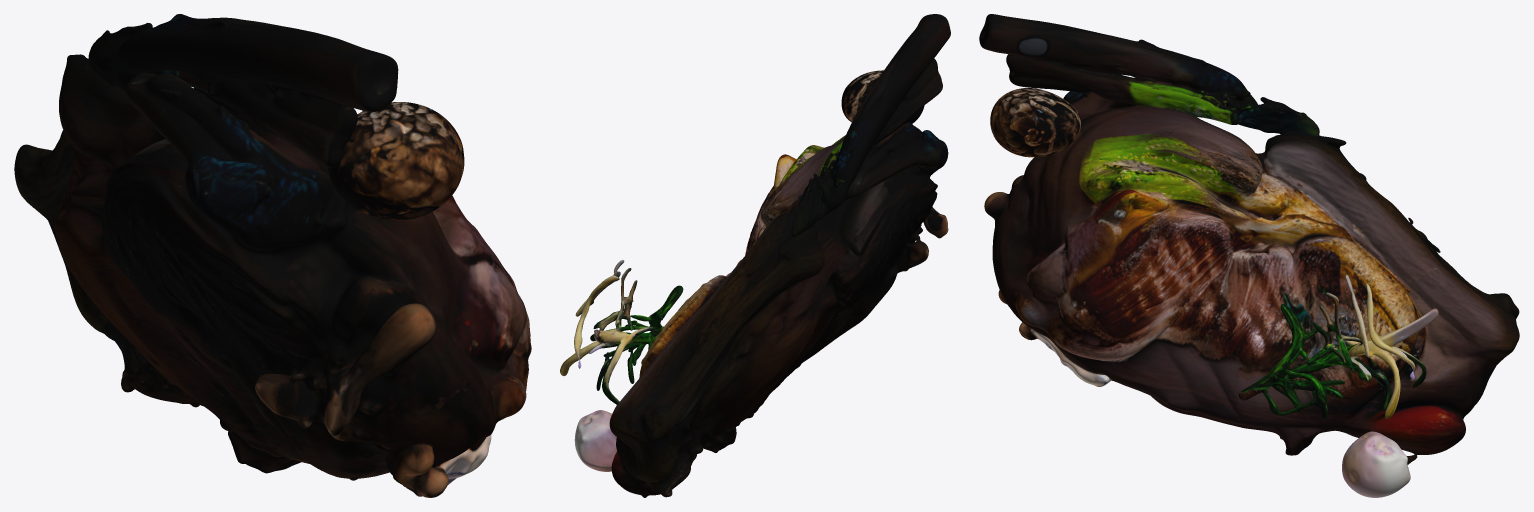
File: realistic-steak-board.glb
3 views of the same model, side by side, from view 1: azimuth 30°, elevation 25°; view 2: azimuth 150°, elevation 25°; view 3: azimuth 270°, elevation 25° (orthographic). The views are drawn at different scales.
Visible parts, largest first — view 1: tripo_node_5b248456-122d-4617-8a5d-160a99fc3df6; view 2: tripo_node_5b248456-122d-4617-8a5d-160a99fc3df6; view 3: tripo_node_5b248456-122d-4617-8a5d-160a99fc3df6.
Boxes of the visible parts, box(x1,y1,x2,y2) form: tripo_node_5b248456-122d-4617-8a5d-160a99fc3df6: box(14, 14, 531, 497); tripo_node_5b248456-122d-4617-8a5d-160a99fc3df6: box(560, 14, 950, 497); tripo_node_5b248456-122d-4617-8a5d-160a99fc3df6: box(979, 14, 1519, 497).
Size of the model in its own units: 0.5811 by 0.8103 by 1.
Materials: 1 (1 with a texture image).
